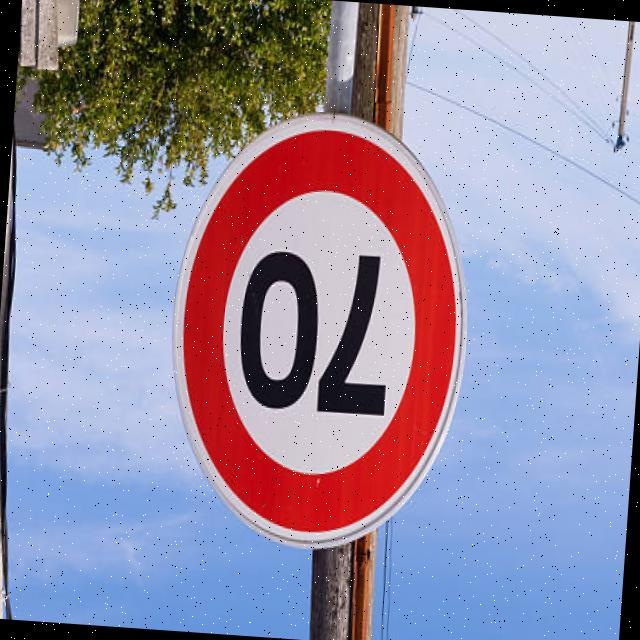speed_limit_70: (153, 106, 480, 565)
